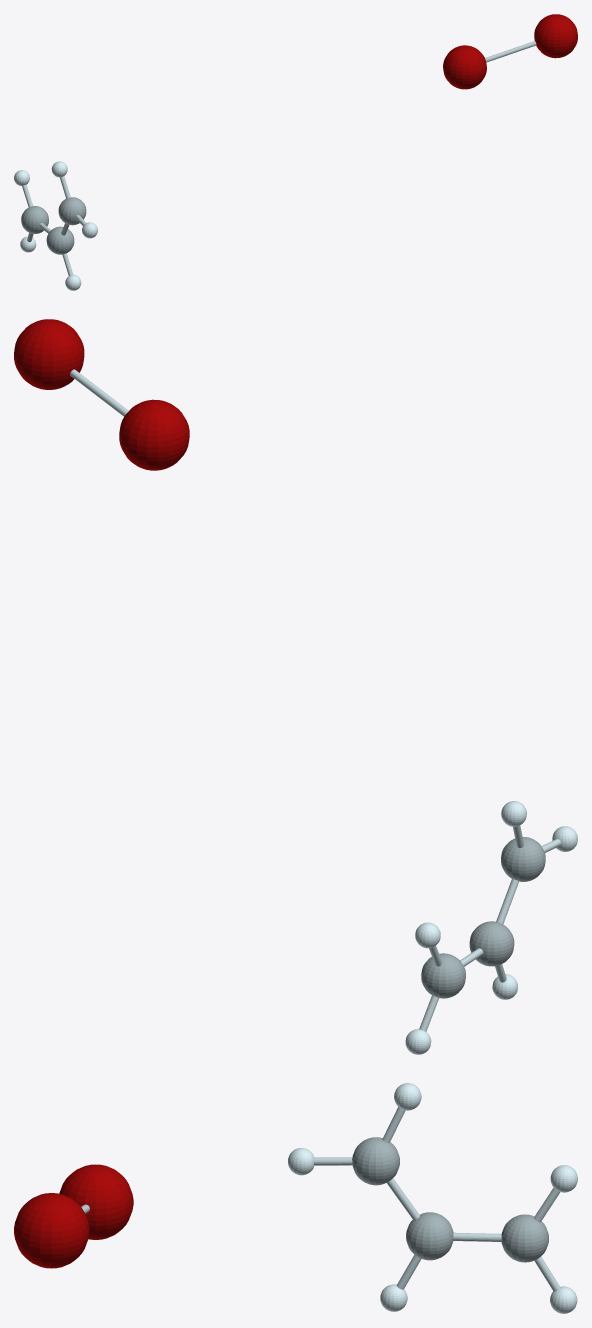
File: irc_step_080.glb
The picture shows the model from 3 angles, top to bottom: view 1: azimuth 30°, elevation 25°; view 2: azimuth 150°, elevation 25°; view 3: azimuth 270°, elevation 25°; orthographic projection. The views are drawn at different scales.
Parts seen in each view (by area): view 1: Renderer Node; view 2: Renderer Node; view 3: Renderer Node.
Part boxes in pixels (x1=…): Renderer Node: x1=14, y1=14, x2=577, y2=290; Renderer Node: x1=14, y1=319, x2=577, y2=1054; Renderer Node: x1=14, y1=1083, x2=577, y2=1313.
Size of the model in its own units: 12.09 by 6.97 by 8.2.
